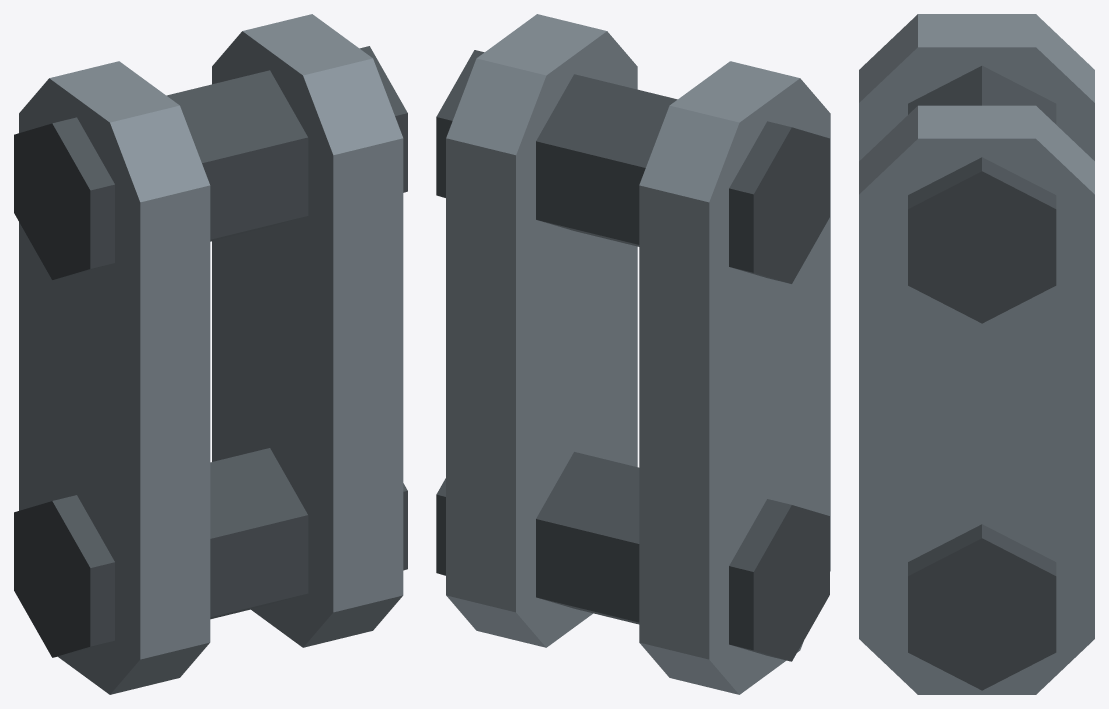
Rendered from SM_Prop_BoltCutters_01.fbx.
3 views of the same model, side by side, from view 1: azimuth 30°, elevation 25°; view 2: azimuth 150°, elevation 25°; view 3: azimuth 270°, elevation 25° (orthographic). The views are drawn at different scales.
Visible parts, largest first — view 1: SM_Prop_BoltCutters_01; view 2: SM_Prop_BoltCutters_01; view 3: SM_Prop_BoltCutters_01.
Part boxes in pixels (x1,y1,x2,y2): SM_Prop_BoltCutters_01: (14, 14, 407, 694); SM_Prop_BoltCutters_01: (436, 14, 830, 694); SM_Prop_BoltCutters_01: (859, 14, 1094, 694).
Bounding box in the file's own units: 7.81 × 13.45 × 5.17.
